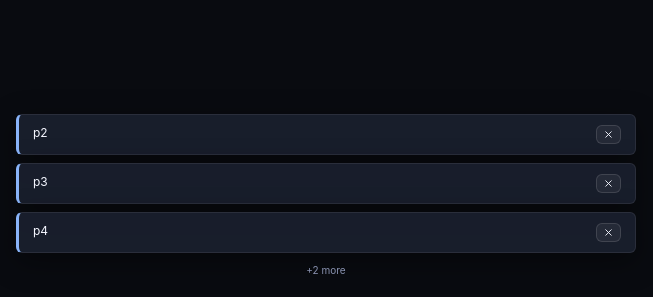
it: NoticeStack › caps persistent notices at max too, but keeps them reachable via expand
Check: the number of messages with class "notice" is 3, box [16,114,636,155]; [16,163,636,204]; [16,212,636,253]
Check: the text "p0" is not shown
What coordinates should you click on to do the following:
click the button "+2 more"
I would click on:
 (326, 270)
Its box is [298,261,354,280].
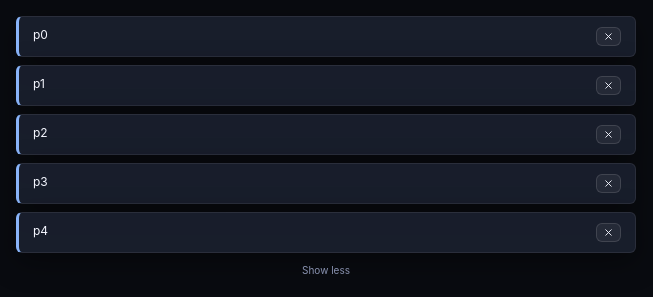
Check: the number of messages with class "notice" is 5, box [16,16,636,57]; [16,65,636,106]; [16,114,636,155]; [16,163,636,204]; [16,212,636,253]
Check: the text "p0" is shown, box [33,27,48,42]
collapse again
What coordinates should you click on to do the following:
click the button "Show less"
I would click on:
 (326, 270)
Its box is [294,261,358,280].
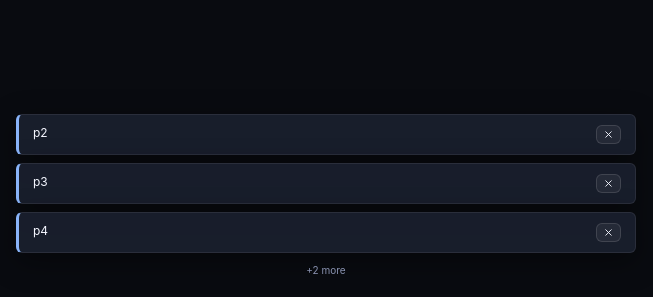
Check: the number of messages with class "notice" is 3, box [16,114,636,155]; [16,163,636,204]; [16,212,636,253]
